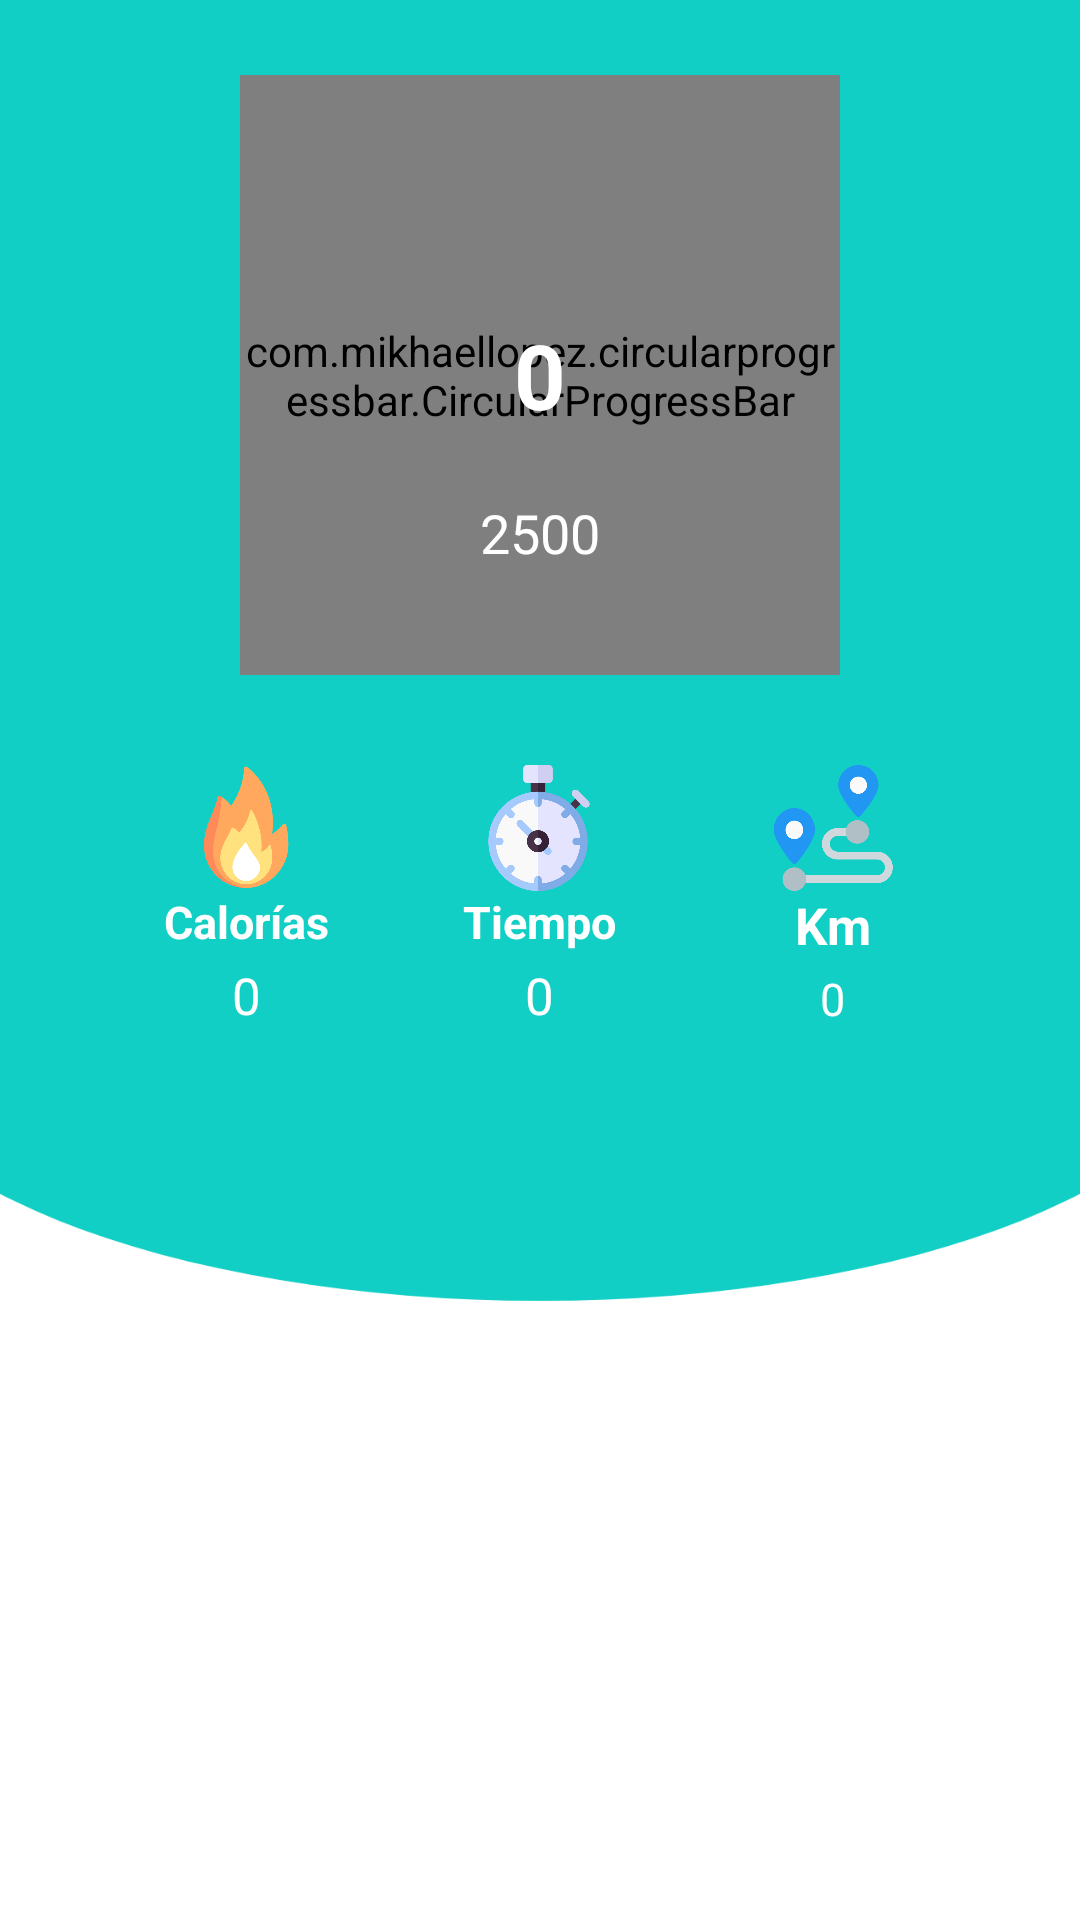

Icons on this 1080 x 1920 Android screen, each with the point to tap as point (x, y):
cron: point (539, 828)
dist: point (833, 828)
fuego: point (246, 827)
